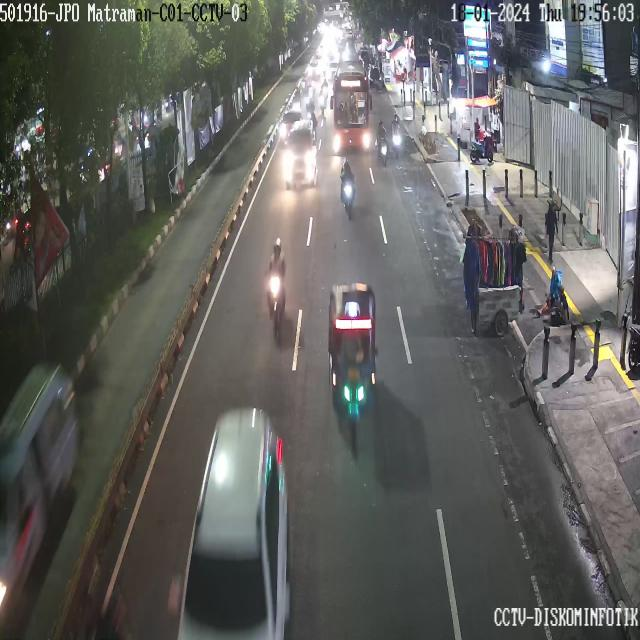Panggul: (452, 196, 537, 345)
Payung: (463, 86, 506, 119)
